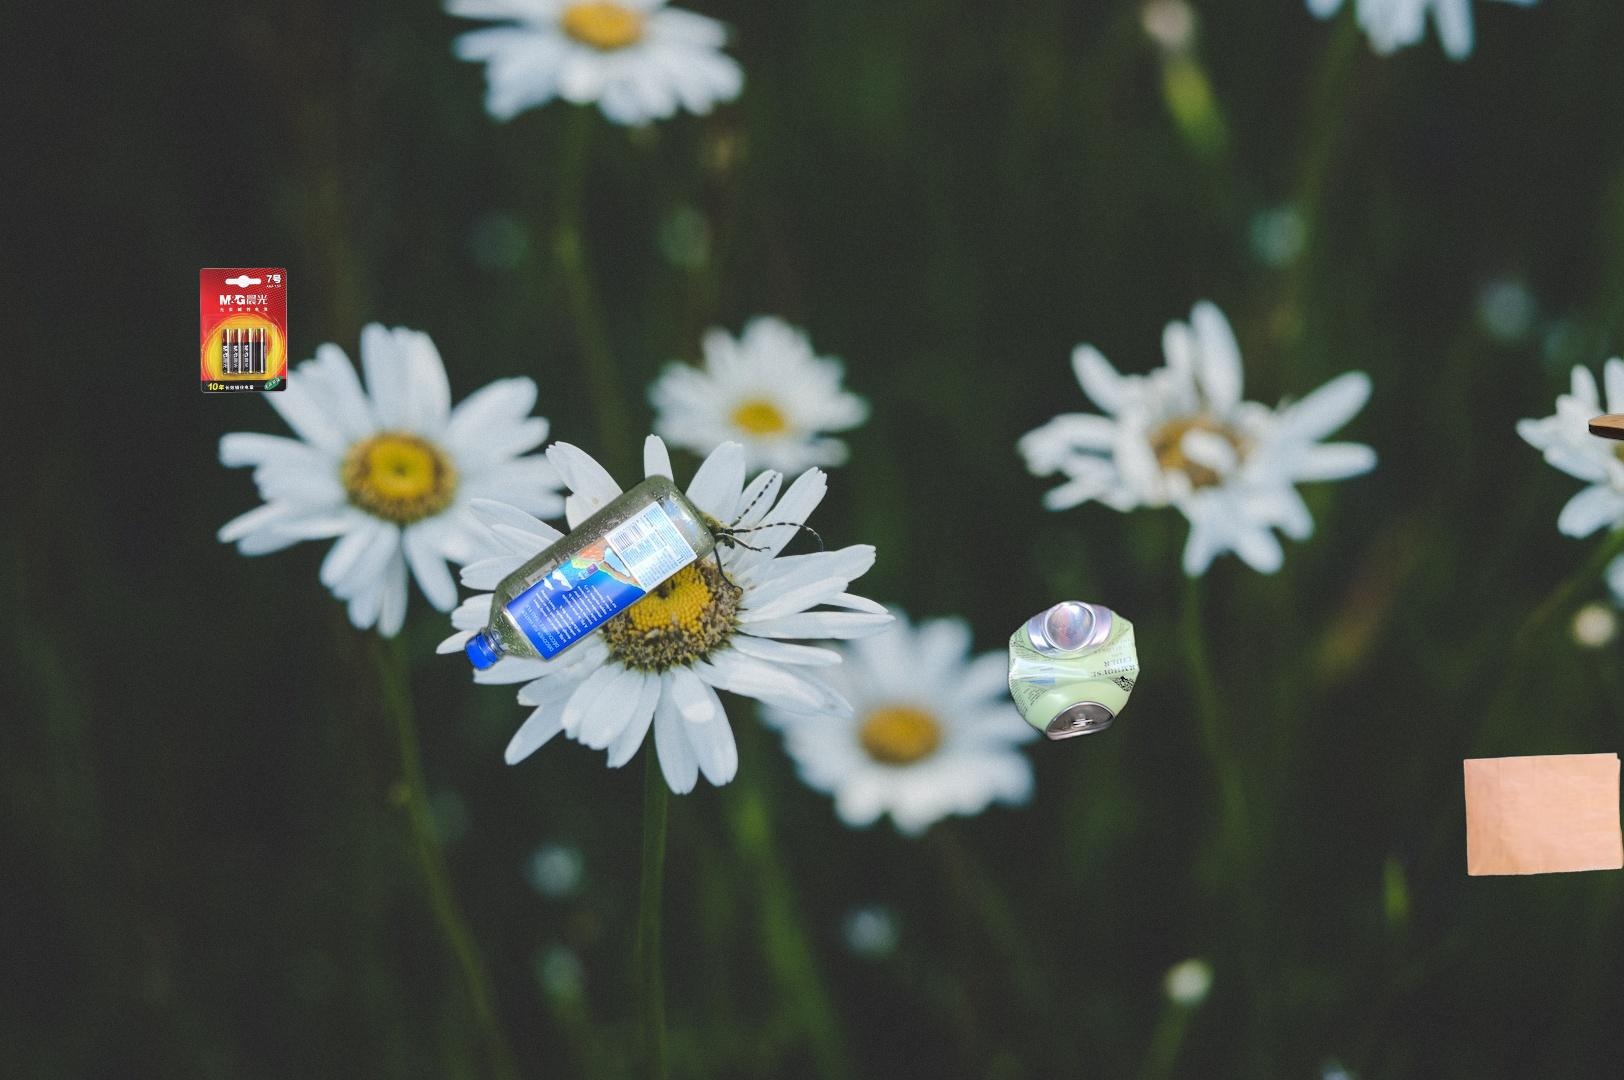battery: (198, 265, 290, 397)
metal-cans: (1004, 133, 1438, 747)
paper-bag: (1460, 750, 1624, 879)
penholder: (1622, 128, 1624, 700)
plastic-bottles: (460, 469, 720, 677)
shoes: (1571, 388, 1624, 453)
